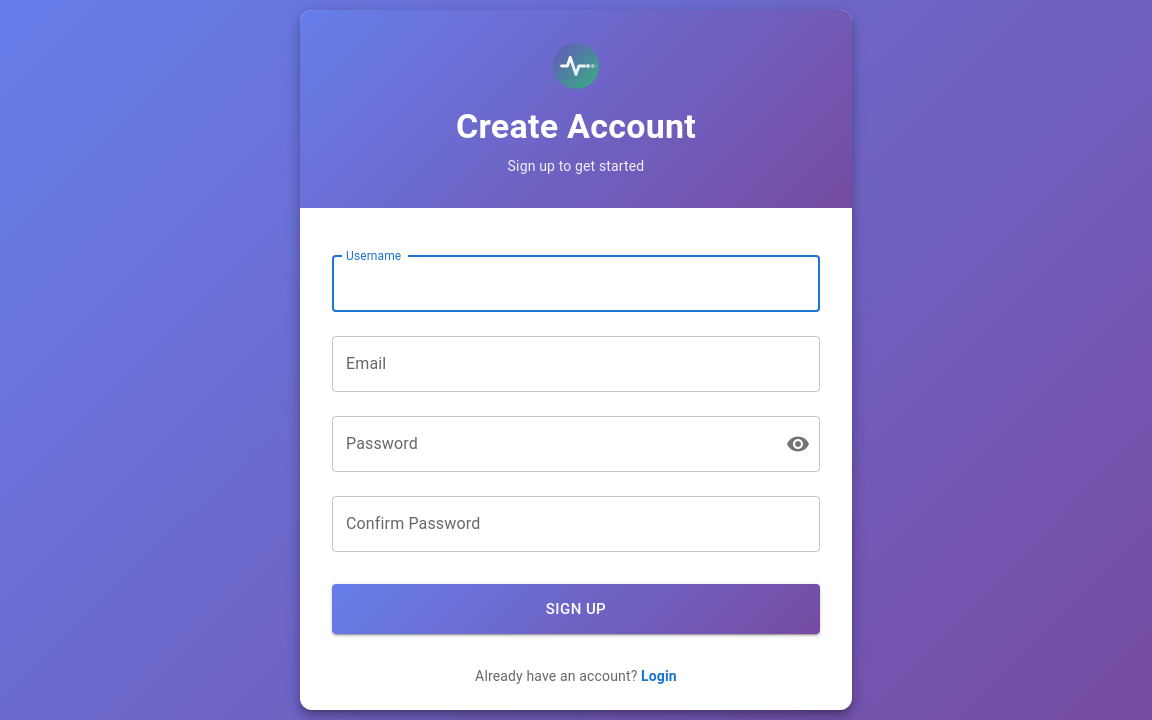
Scenario: Register Component › shows error for mismatched passwords
The image size is (1152, 720).
Step 1. Type "Password123!" into the password field labelled "Password" → (551, 444), box x1=332 y1=416 x2=770 y2=472
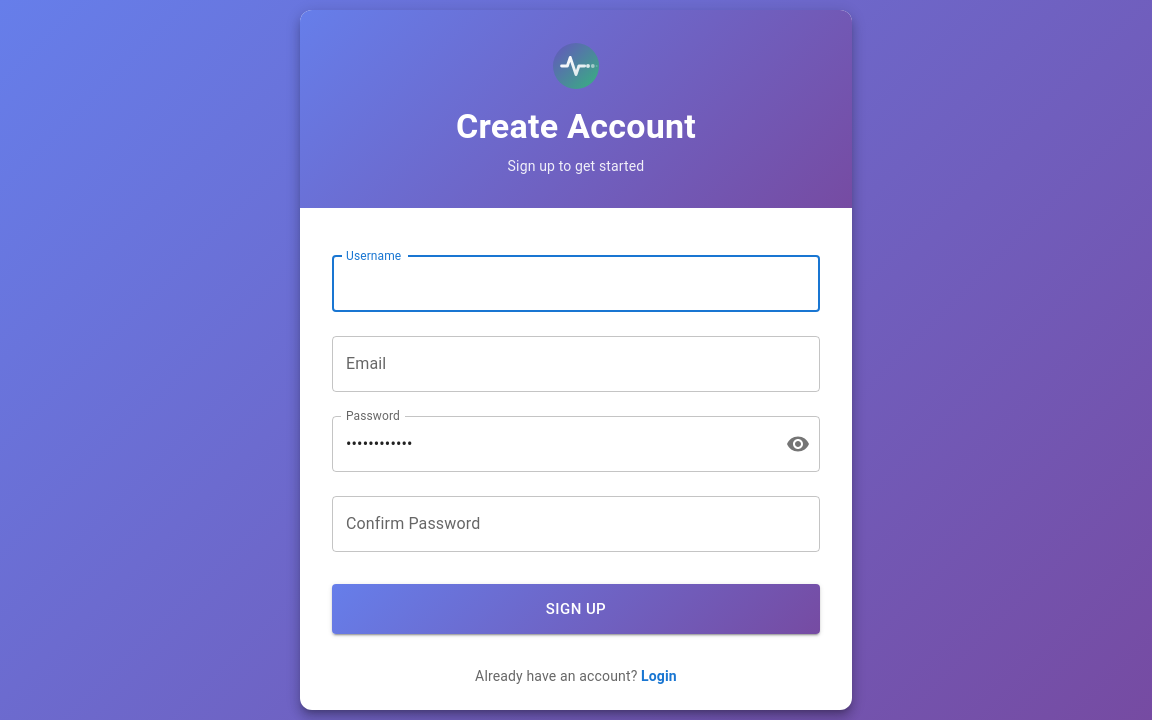
Step 2. Type "DifferentPass123!" into the password field labelled "Confirm Password" → (576, 524), box x1=332 y1=496 x2=820 y2=552
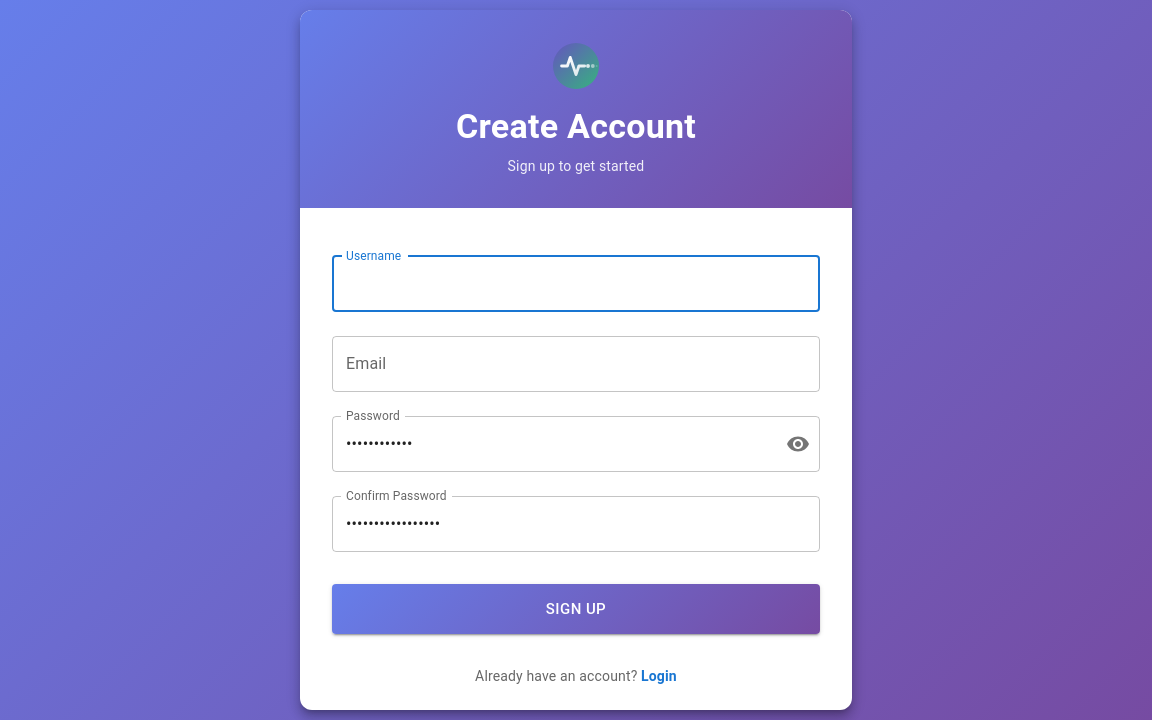
Step 3. Click the button "Sign Up" → (576, 609), box x1=332 y1=584 x2=820 y2=634
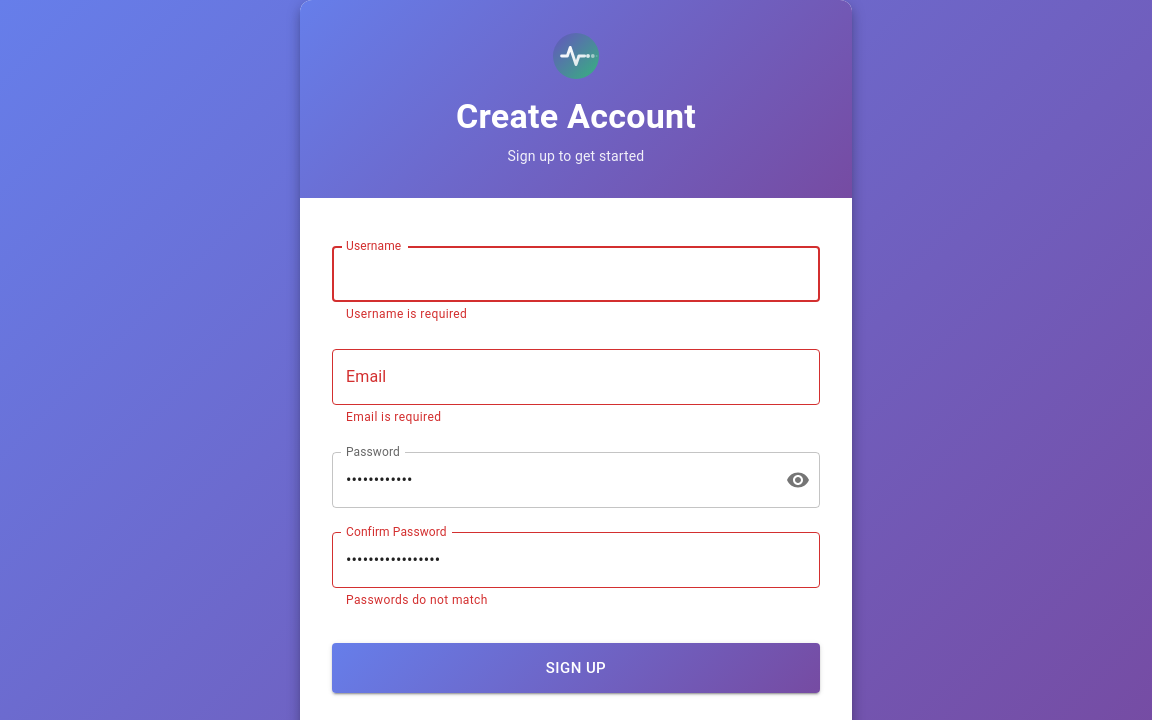
Result: the text "Passwords do not match" is shown at x1=346 y1=593 x2=488 y2=607
